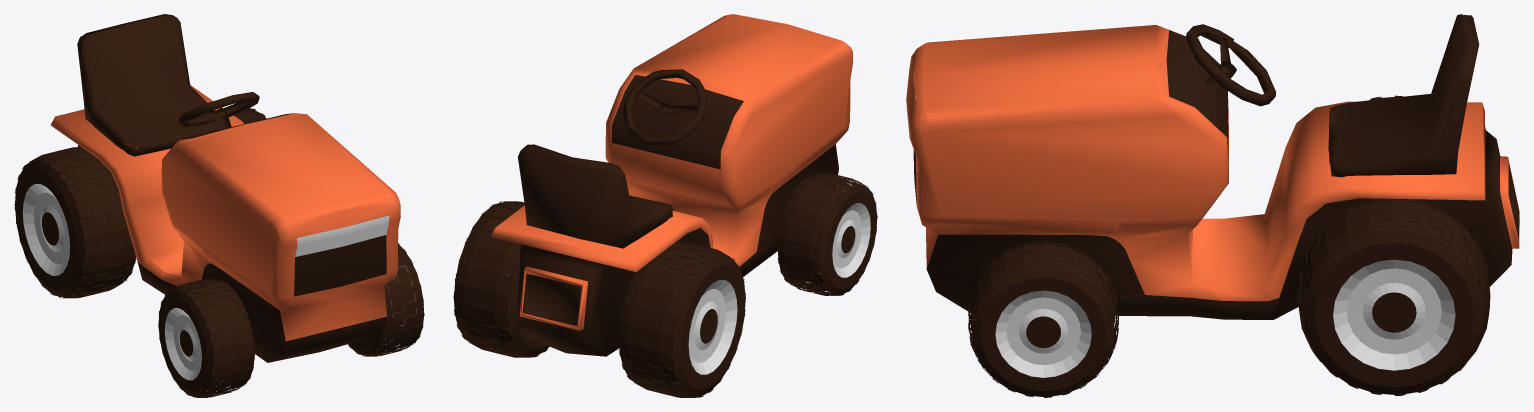
Rendered from groundscare-default-web.glb.
3 renders of one model, left to right at view 1: azimuth 30°, elevation 25°; view 2: azimuth 150°, elevation 25°; view 3: azimuth 270°, elevation 25°, orthographic. The views are drawn at different scales.
Visible parts, largest first — view 1: Groundscare_Web; view 2: Groundscare_Web; view 3: Groundscare_Web.
Boxes of the visible parts, bbox=[...] form: Groundscare_Web: bbox=[14, 14, 424, 397]; Groundscare_Web: bbox=[453, 14, 877, 397]; Groundscare_Web: bbox=[906, 14, 1519, 397].
Bounding box in the file's own units: 0.9621 × 0.9801 × 1.8.
